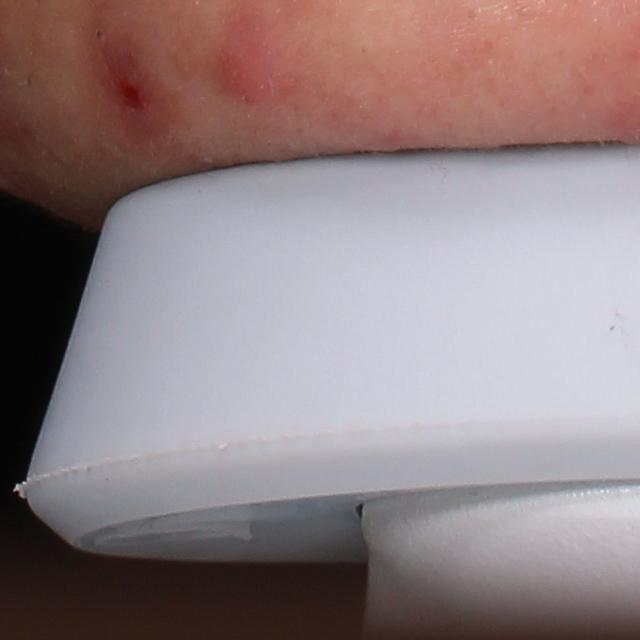papule: (207, 11, 270, 115), (101, 47, 155, 124)
